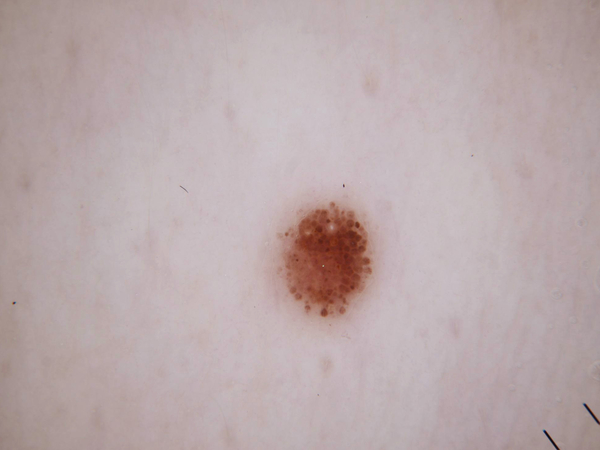Detected Lesion: (272, 201, 378, 321)
